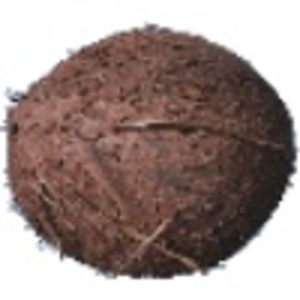coco: (4, 25, 298, 280)
